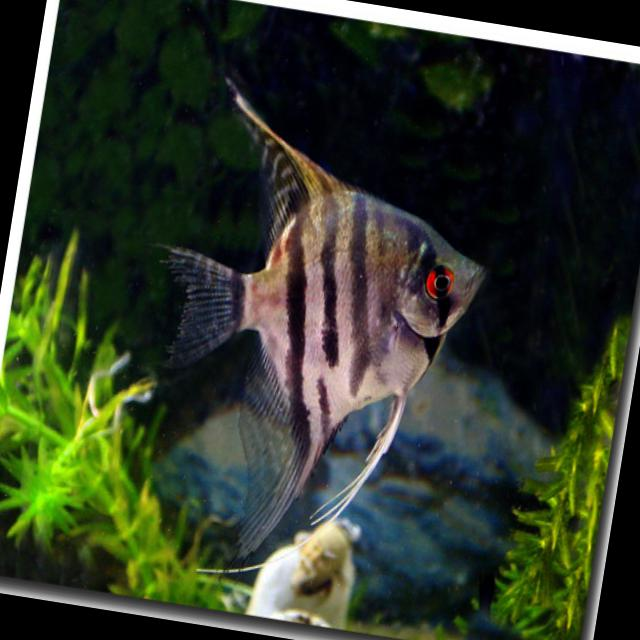AngelFish: (126, 73, 509, 568)
